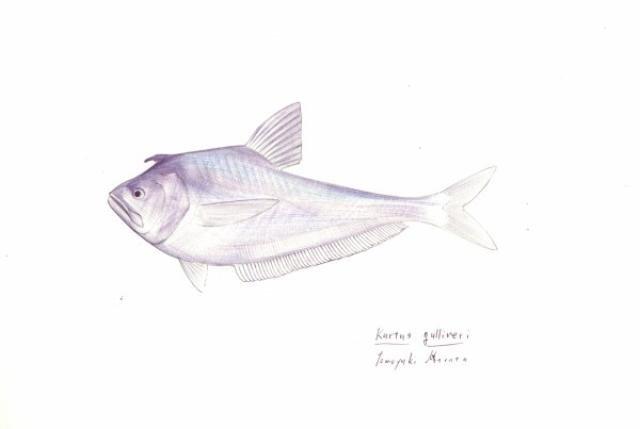Mulut: (97, 184, 141, 228)
Sirip Anal: (236, 216, 409, 302)
Sirip Dada: (196, 191, 282, 231)
Sirip Ekor: (441, 158, 503, 258)
Sirip Perut: (176, 254, 214, 292)
Sirip Punggung: (248, 100, 306, 171)
